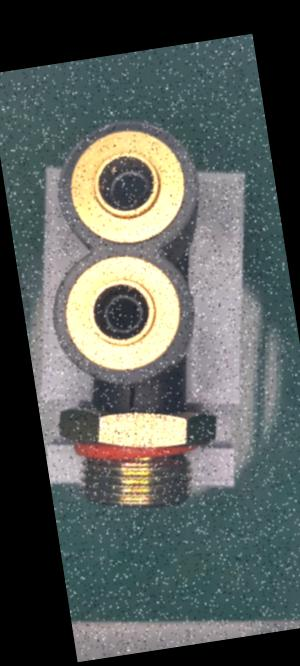craze: (122, 380, 141, 412)
off-centered: (95, 161, 159, 214)
